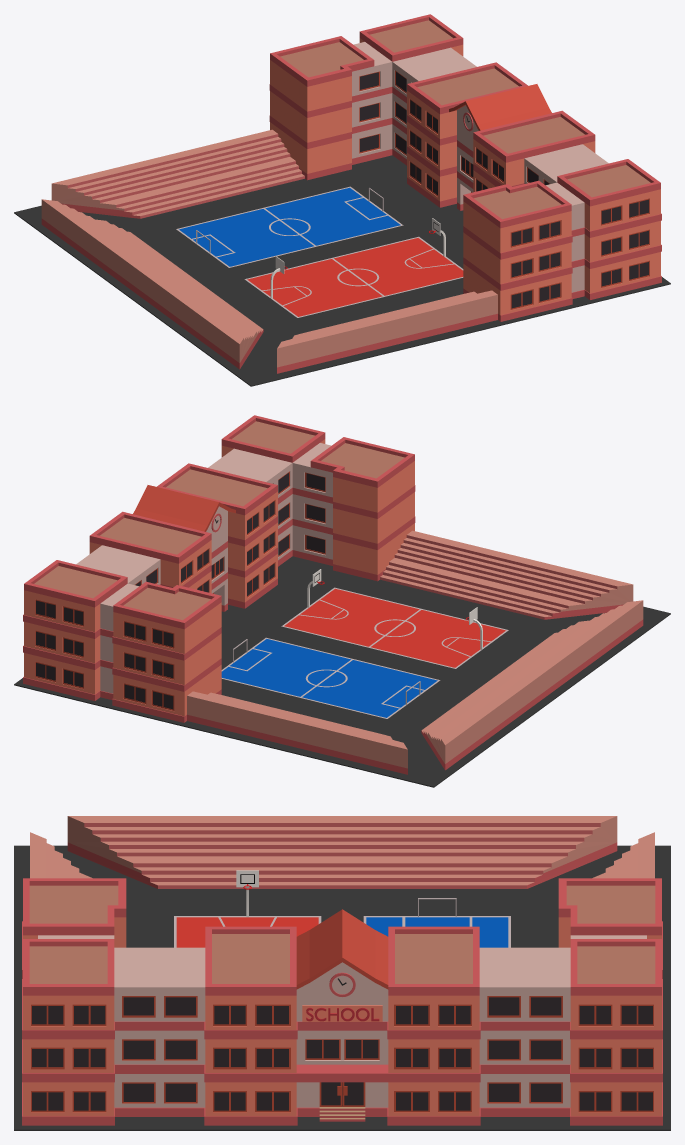
The model's file is PublicBuilding_SchoolC.obj.
3 views of the same model, one above another, from view 1: azimuth 30°, elevation 25°; view 2: azimuth 150°, elevation 25°; view 3: azimuth 270°, elevation 25° (orthographic). The views are drawn at different scales.
Visible parts, largest first — view 1: PublicBuilding_School_Cube.174_Cube.153; view 2: PublicBuilding_School_Cube.174_Cube.153; view 3: PublicBuilding_School_Cube.174_Cube.153.
Boxes of the visible parts, left/top/right/bottom form: PublicBuilding_School_Cube.174_Cube.153: left=14, top=14, right=670, bottom=386; PublicBuilding_School_Cube.174_Cube.153: left=14, top=415, right=670, bottom=787; PublicBuilding_School_Cube.174_Cube.153: left=14, top=816, right=670, bottom=1130.
Size of what is drawn, in the model's own units: 23.09 by 6.18 by 22.58.
1 material, 1 textured.
